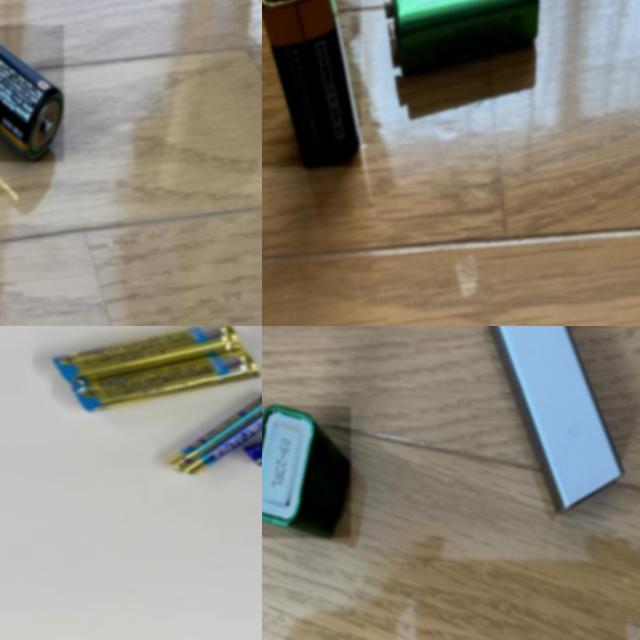9V: (262, 0, 361, 167), (262, 406, 351, 538), (384, 0, 538, 73)
